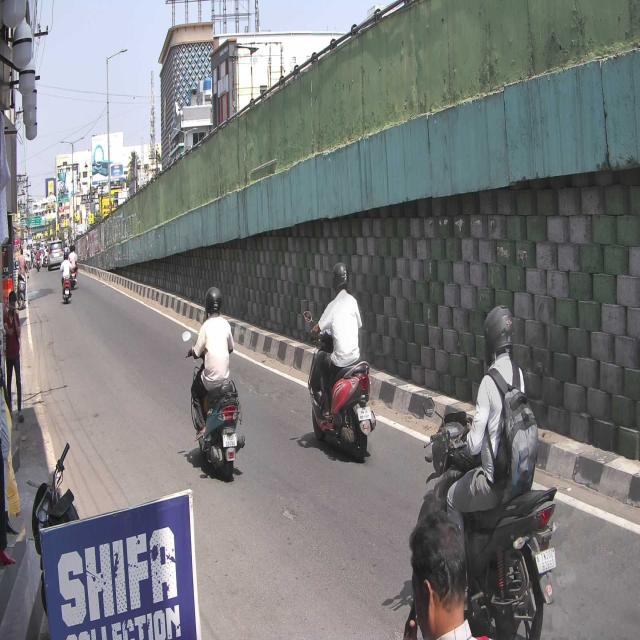single_rider: (424, 306, 556, 640), (303, 261, 377, 455), (181, 280, 248, 483)
